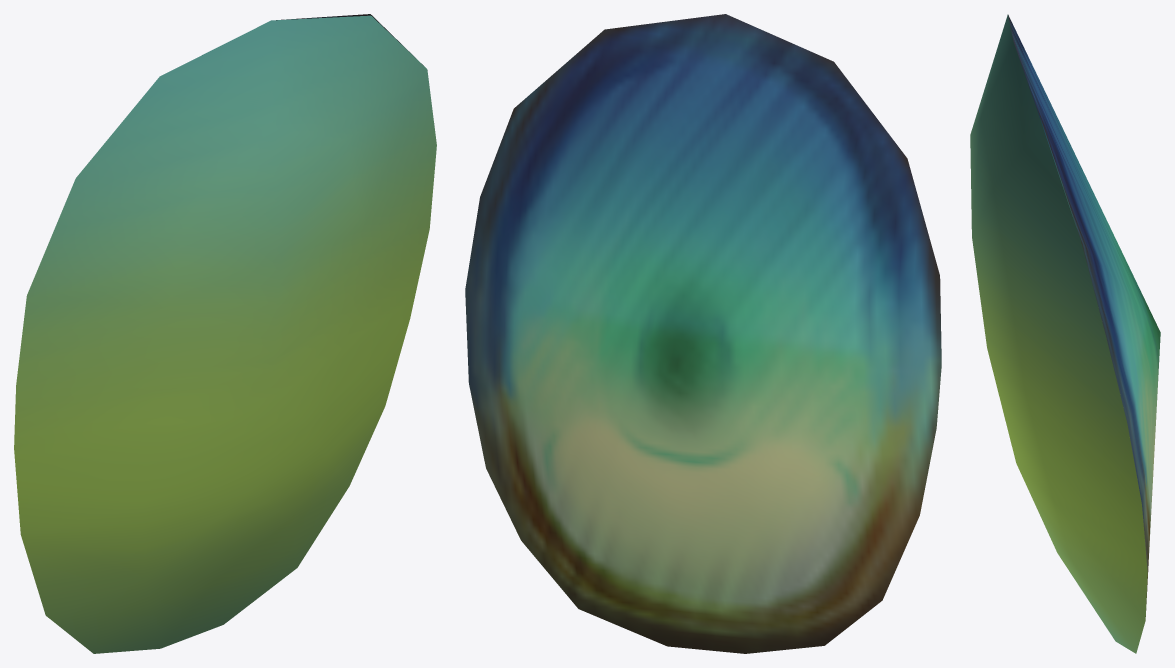
The model's file is Eye_00_L.fbx.
3 renders of one model, left to right at view 1: azimuth 30°, elevation 25°; view 2: azimuth 150°, elevation 25°; view 3: azimuth 270°, elevation 25°, orthographic. The views are drawn at different scales.
Visible parts, largest first — view 1: Eye_00_L_Cover; view 2: Eye_00_L; view 3: Eye_00_L_Cover, Eye_00_L.
Boxes of the visible parts, x1,y1,x2,y2 form: Eye_00_L_Cover: [14, 15, 436, 653]; Eye_00_L: [465, 14, 941, 653]; Eye_00_L_Cover: [970, 14, 1147, 653]; Eye_00_L: [1008, 14, 1160, 616].
Size of the model in its own units: 5.2 by 6.91 by 2.
1 material, 1 textured.
